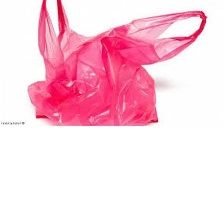plastic_bag: (24, 0, 210, 130)
